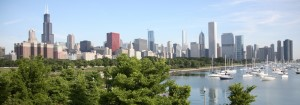willis: (41, 2, 55, 43)
